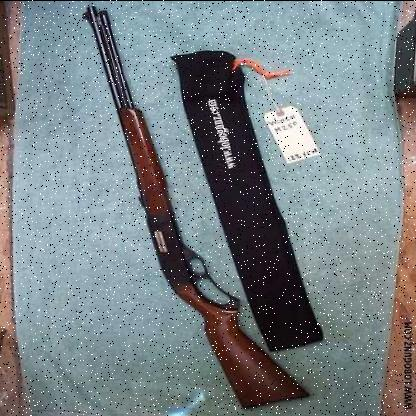rifle: (63, 1, 321, 413)
